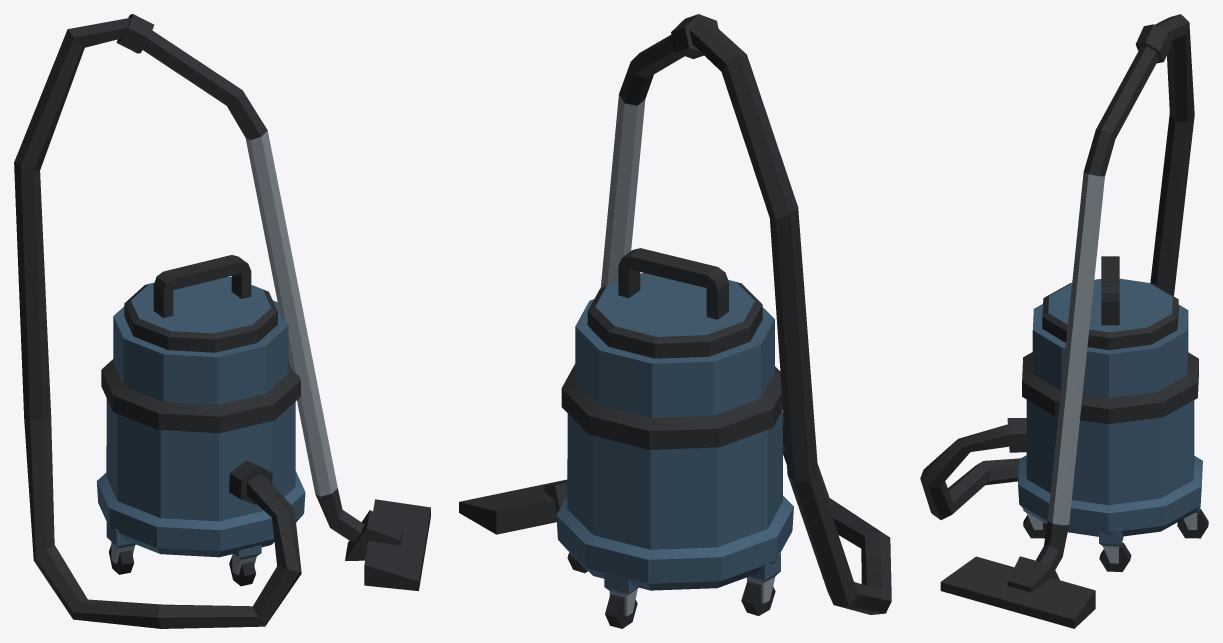
The model's file is Vacuum.fbx.
3 views of the same model, side by side, from view 1: azimuth 30°, elevation 25°; view 2: azimuth 150°, elevation 25°; view 3: azimuth 270°, elevation 25° (orthographic). The views are drawn at different scales.
Visible parts, largest first — view 1: s; view 2: s; view 3: s.
Boxes of the visible parts, bbox=[...] form: s: bbox=[14, 14, 430, 628]; s: bbox=[459, 14, 891, 628]; s: bbox=[920, 14, 1208, 628].
Size of the model in its own units: 92.58 by 128 by 67.41.
1 material, 1 textured.
